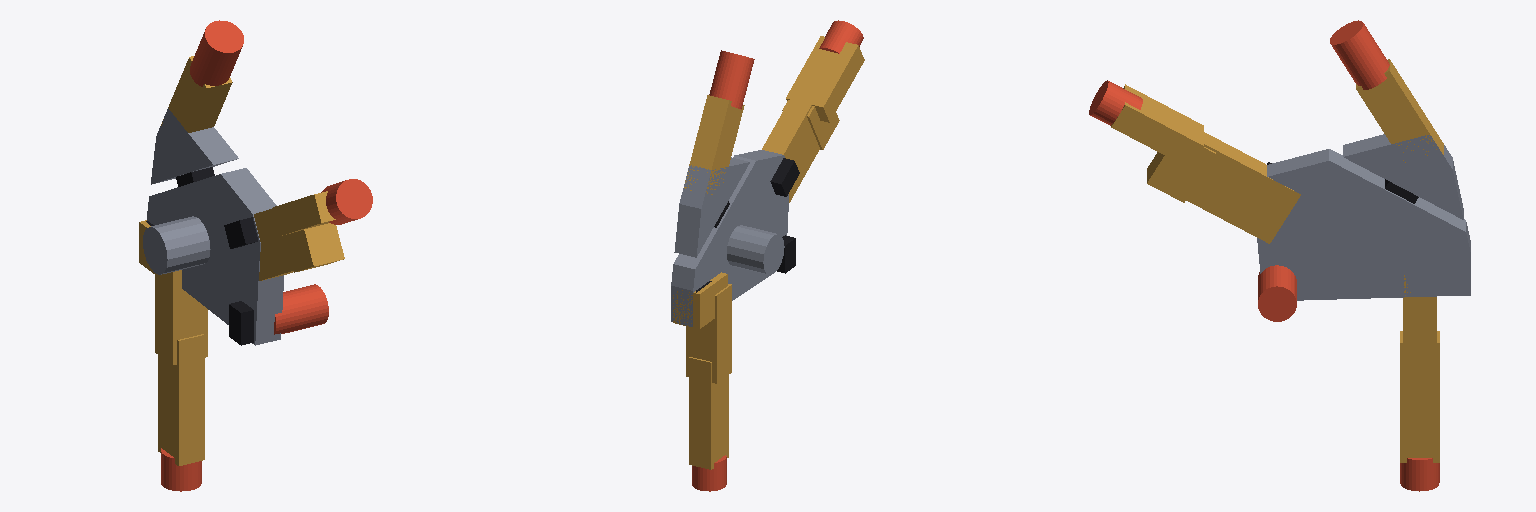
URDF robot description (g0047_c01):
<robot name="g0047_c01">
  <link name="palm">
    <visual name="palm_palm1">
      <origin xyz="0 0 0" rpy="0 0 0" />
      <geometry>
        <mesh filename="palm_palm1.obj" />
      </geometry>
      <material name="palm_palm1_mat">
        <color rgba="0.55 0.57 0.62 1" />
      </material>
    </visual>
    <collision>
      <origin xyz="0 0 0" rpy="0 0 0" />
      <geometry>
        <mesh filename="palm_palm1.obj" />
      </geometry>
    </collision>
    <visual name="palm_mount2">
      <origin xyz="0 0 0" rpy="0 0 0" />
      <geometry>
        <mesh filename="palm_mount2.obj" />
      </geometry>
      <material name="palm_mount2_mat">
        <color rgba="0.55 0.57 0.62 1" />
      </material>
    </visual>
    <collision>
      <origin xyz="0 0 0" rpy="0 0 0" />
      <geometry>
        <mesh filename="palm_mount2.obj" />
      </geometry>
    </collision>
    <visual name="palm_hinge3">
      <origin xyz="0 0.02125 0.0368060797" rpy="-1.57079633 0.523598776 1.57079633" />
      <geometry>
        <box size="0.029 0.034 0.02" />
      </geometry>
      <material name="palm_hinge3_mat">
        <color rgba="0.15 0.15 0.17 1" />
      </material>
    </visual>
    <collision>
      <origin xyz="0 0.02125 0.0368060797" rpy="-1.57079633 0.523598776 1.57079633" />
      <geometry>
        <box size="0.029 0.034 0.02" />
      </geometry>
    </collision>
    <visual name="palm_motor4">
      <origin xyz="-0.007 -0.08 -0.04" rpy="1.57079633 -1.57079633 0" />
      <geometry>
        <box size="0.029 0.034 0.02" />
      </geometry>
      <material name="palm_motor4_mat">
        <color rgba="0.15 0.15 0.17 1" />
      </material>
    </visual>
    <collision>
      <origin xyz="-0.007 -0.08 -0.04" rpy="1.57079633 -1.57079633 0" />
      <geometry>
        <box size="0.029 0.034 0.02" />
      </geometry>
    </collision>
    <visual name="palm_motor5">
      <origin xyz="-0.007 -0.08 0.04" rpy="3.14159265 -0.523598776 -1.57079633" />
      <geometry>
        <box size="0.029 0.034 0.02" />
      </geometry>
      <material name="palm_motor5_mat">
        <color rgba="0.15 0.15 0.17 1" />
      </material>
    </visual>
    <collision>
      <origin xyz="-0.007 -0.08 0.04" rpy="3.14159265 -0.523598776 -1.57079633" />
      <geometry>
        <box size="0.029 0.034 0.02" />
      </geometry>
    </collision>
    <visual name="palm_motor6">
      <origin xyz="-0.0045 0.0665 -0.0325" rpy="1.57079633 1.2246468e-16 -1.57079633" />
      <geometry>
        <box size="0.029 0.034 0.02" />
      </geometry>
      <material name="palm_motor6_mat">
        <color rgba="0.15 0.15 0.17 1" />
      </material>
    </visual>
    <collision>
      <origin xyz="-0.0045 0.0665 -0.0325" rpy="1.57079633 1.2246468e-16 -1.57079633" />
      <geometry>
        <box size="0.029 0.034 0.02" />
      </geometry>
    </collision>
    <inertial>
      <origin xyz="1.61089773e-19 -0.0166612479 -0.000978147357" rpy="1.57079633 0.259565833 1.57079633" />
      <mass value="0.766812417" />
      <inertia ixx="0.000769686596" ixy="0" ixz="0" iyy="0.00191657535" iyz="0" izz="0.00261264795" />
    </inertial>
  </link>
  <link name="palm0">
    <visual name="palm0_palm1">
      <origin xyz="0 0 0" rpy="0 0 0" />
      <geometry>
        <mesh filename="palm0_palm1.obj" />
      </geometry>
      <material name="palm0_palm1_mat">
        <color rgba="0.55 0.57 0.62 1" />
      </material>
    </visual>
    <collision>
      <origin xyz="0 0 0" rpy="0 0 0" />
      <geometry>
        <mesh filename="palm0_palm1.obj" />
      </geometry>
    </collision>
    <visual name="palm0_motor2">
      <origin xyz="0 0.01875 0.0302035393" rpy="-1.57079633 -0.523598776 1.57079633" />
      <geometry>
        <box size="0.029 0.034 0.02" />
      </geometry>
      <material name="palm0_motor2_mat">
        <color rgba="0.15 0.15 0.17 1" />
      </material>
    </visual>
    <collision>
      <origin xyz="0 0.01875 0.0302035393" rpy="-1.57079633 -0.523598776 1.57079633" />
      <geometry>
        <box size="0.029 0.034 0.02" />
      </geometry>
    </collision>
    <inertial>
      <origin xyz="8.353606e-19 0.0110686727 0.0209019454" rpy="1.57079633 0.528288471 1.57079633" />
      <mass value="0.147871037" />
      <inertia ixx="3.31420099e-05" ixy="0" ixz="0" iyy="9.63724444e-05" iyz="0" izz="0.000115318835" />
    </inertial>
  </link>
  <link name="f0_link0">
    <visual name="f0_link0_link1">
      <origin xyz="0.029 3.46944695e-18 0" rpy="-1.57079633 -0 -1.57079633" />
      <geometry>
        <cylinder radius="0.0165" length="0.049" />
      </geometry>
      <material name="f0_link0_link1_mat">
        <color rgba="0.85 0.35 0.25 1" />
      </material>
    </visual>
    <collision>
      <origin xyz="0.029 3.46944695e-18 0" rpy="-1.57079633 -0 -1.57079633" />
      <geometry>
        <cylinder radius="0.0165" length="0.049" />
      </geometry>
    </collision>
    <inertial>
      <origin xyz="0.029 0 0" rpy="0 0 0" />
      <mass value="0.106270851" />
      <inertia ixx="1.35696277e-05" ixy="0" ixz="0" iyy="5.30015704e-05" iyz="0" izz="5.30015704e-05" />
    </inertial>
  </link>
  <link name="f1_link0">
    <visual name="f1_link0_link1">
      <origin xyz="0.0415 0 -0.0145" rpy="0 7.03853194e-17 0" />
      <geometry>
        <box size="0.116 0.024 0.053" />
      </geometry>
      <material name="f1_link0_link1_mat">
        <color rgba="0.80 0.62 0.30 1" />
      </material>
    </visual>
    <collision>
      <origin xyz="0.0415 0 -0.0145" rpy="0 7.03853194e-17 0" />
      <geometry>
        <box size="0.116 0.024 0.053" />
      </geometry>
    </collision>
    <inertial>
      <origin xyz="0.0415 0 -0.0145" rpy="0 0 0" />
      <mass value="0.258216" />
      <inertia ixx="7.283843e-05" ixy="0" ixz="0" iyy="0.00034999027" iyz="0" izz="0.000301940576" />
    </inertial>
  </link>
  <link name="f1_link1">
    <visual name="f1_link1_link1">
      <origin xyz="-0.00625 0 -0.0165" rpy="0 7.03853194e-17 0" />
      <geometry>
        <box size="0.0365 0.029 0.053" />
      </geometry>
      <material name="f1_link1_link1_mat">
        <color rgba="0.80 0.62 0.30 1" />
      </material>
    </visual>
    <collision>
      <origin xyz="-0.00625 0 -0.0165" rpy="0 7.03853194e-17 0" />
      <geometry>
        <box size="0.0365 0.029 0.053" />
      </geometry>
    </collision>
    <inertial>
      <origin xyz="-0.00625 0 -0.0165" rpy="0 0 0" />
      <mass value="0.098175875" />
      <inertia ixx="2.98618286e-05" ixy="0" ixz="0" iyy="3.38809035e-05" iyz="0" izz="1.778006e-05" />
    </inertial>
  </link>
  <link name="f1_link2">
    <visual name="f1_link2_link1">
      <origin xyz="0.02625 -0.004 -1.73472348e-18" rpy="0 7.03853194e-17 0" />
      <geometry>
        <box size="0.0765 0.041 0.024" />
      </geometry>
      <material name="f1_link2_link1_mat">
        <color rgba="0.80 0.62 0.30 1" />
      </material>
    </visual>
    <collision>
      <origin xyz="0.02625 -0.004 -1.73472348e-18" rpy="0 7.03853194e-17 0" />
      <geometry>
        <box size="0.0765 0.041 0.024" />
      </geometry>
    </collision>
    <inertial>
      <origin xyz="0.02625 -0.004 0" rpy="0 0 0" />
      <mass value="0.131733" />
      <inertia ixx="2.47767818e-05" ixy="0" ixz="0" iyy="7.05677214e-05" iyz="0" izz="8.26981352e-05" />
    </inertial>
  </link>
  <link name="f1_link3">
    <visual name="f1_link3_link1">
      <origin xyz="0.01675 0 -9.54097912e-18" rpy="-1.57079633 -0 -1.57079633" />
      <geometry>
        <cylinder radius="0.0165" length="0.0335" />
      </geometry>
      <material name="f1_link3_link1_mat">
        <color rgba="0.85 0.35 0.25 1" />
      </material>
    </visual>
    <collision>
      <origin xyz="0.01675 0 -9.54097912e-18" rpy="-1.57079633 -0 -1.57079633" />
      <geometry>
        <cylinder radius="0.0165" length="0.0335" />
      </geometry>
    </collision>
    <inertial>
      <origin xyz="0.01675 0 0" rpy="0 0 0" />
      <mass value="0.0830708765" />
      <inertia ixx="1.04115311e-05" ixy="0" ixz="0" iyy="2.77522648e-05" iyz="0" izz="2.77522648e-05" />
    </inertial>
  </link>
  <link name="f2_link0">
    <visual name="f2_link0_link1">
      <origin xyz="-0.00625 0 -0.0165" rpy="0 -0 0" />
      <geometry>
        <box size="0.0365 0.029 0.053" />
      </geometry>
      <material name="f2_link0_link1_mat">
        <color rgba="0.80 0.62 0.30 1" />
      </material>
    </visual>
    <collision>
      <origin xyz="-0.00625 0 -0.0165" rpy="0 -0 0" />
      <geometry>
        <box size="0.0365 0.029 0.053" />
      </geometry>
    </collision>
    <inertial>
      <origin xyz="-0.00625 0 -0.0165" rpy="0 0 0" />
      <mass value="0.098175875" />
      <inertia ixx="2.98618286e-05" ixy="0" ixz="0" iyy="3.38809035e-05" iyz="0" izz="1.778006e-05" />
    </inertial>
  </link>
  <link name="f2_link1">
    <visual name="f2_link1_link1">
      <origin xyz="0.03375 0 -6.9388939e-18" rpy="0 -0 0" />
      <geometry>
        <box size="0.0915 0.033 0.029" />
      </geometry>
      <material name="f2_link1_link1_mat">
        <color rgba="0.80 0.62 0.30 1" />
      </material>
    </visual>
    <collision>
      <origin xyz="0.03375 0 -6.9388939e-18" rpy="0 -0 0" />
      <geometry>
        <box size="0.0915 0.033 0.029" />
      </geometry>
    </collision>
    <inertial>
      <origin xyz="0.03375 0 0" rpy="0 0 0" />
      <mass value="0.153239625" />
      <inertia ixx="2.46460397e-05" ixy="0" ixz="0" iyy="0.000117652915" iyz="0" izz="0.000120819867" />
    </inertial>
  </link>
  <link name="f2_link2">
    <visual name="f2_link2_link1">
      <origin xyz="0.04375 0 0" rpy="0 -0 0" />
      <geometry>
        <box size="0.1115 0.024 0.033" />
      </geometry>
      <material name="f2_link2_link1_mat">
        <color rgba="0.80 0.62 0.30 1" />
      </material>
    </visual>
    <collision>
      <origin xyz="0.04375 0 0" rpy="0 -0 0" />
      <geometry>
        <box size="0.1115 0.024 0.033" />
      </geometry>
    </collision>
    <inertial>
      <origin xyz="0.04375 0 0" rpy="0 0 0" />
      <mass value="0.154539" />
      <inertia ixx="2.14422863e-05" ixy="0" ixz="0" iyy="0.000174130038" iyz="0" izz="0.000167523496" />
    </inertial>
  </link>
  <link name="f2_link3">
    <visual name="f2_link3_link1">
      <origin xyz="0.019 0 -3.46944695e-18" rpy="-1.57079633 -0 -1.57079633" />
      <geometry>
        <cylinder radius="0.0165" length="0.029" />
      </geometry>
      <material name="f2_link3_link1_mat">
        <color rgba="0.85 0.35 0.25 1" />
      </material>
    </visual>
    <collision>
      <origin xyz="0.019 0 -3.46944695e-18" rpy="-1.57079633 -0 -1.57079633" />
      <geometry>
        <cylinder radius="0.0165" length="0.029" />
      </geometry>
    </collision>
    <inertial>
      <origin xyz="0.019 0 0" rpy="0 0 0" />
      <mass value="0.0763354" />
      <inertia ixx="9.49466441e-06" ixy="0" ixz="0" iyy="2.24143997e-05" iyz="0" izz="2.24143997e-05" />
    </inertial>
  </link>
  <link name="f3_link0">
    <visual name="f3_link0_link1">
      <origin xyz="0.03375 0 0" rpy="0 3.98552134e-18 0" />
      <geometry>
        <box size="0.0915 0.024 0.033" />
      </geometry>
      <material name="f3_link0_link1_mat">
        <color rgba="0.80 0.62 0.30 1" />
      </material>
    </visual>
    <collision>
      <origin xyz="0.03375 0 0" rpy="0 3.98552134e-18 0" />
      <geometry>
        <box size="0.0915 0.024 0.033" />
      </geometry>
    </collision>
    <inertial>
      <origin xyz="0.03375 0 0" rpy="0 0 0" />
      <mass value="0.126819" />
      <inertia ixx="1.75961363e-05" ixy="0" ixz="0" iyy="9.99888553e-05" iyz="0" izz="9.45673431e-05" />
    </inertial>
  </link>
  <link name="f3_link1">
    <visual name="f3_link1_link1">
      <origin xyz="0.029 0 -6.9388939e-18" rpy="-1.57079633 -0 -1.57079633" />
      <geometry>
        <cylinder radius="0.0165" length="0.049" />
      </geometry>
      <material name="f3_link1_link1_mat">
        <color rgba="0.85 0.35 0.25 1" />
      </material>
    </visual>
    <collision>
      <origin xyz="0.029 0 -6.9388939e-18" rpy="-1.57079633 -0 -1.57079633" />
      <geometry>
        <cylinder radius="0.0165" length="0.049" />
      </geometry>
    </collision>
    <inertial>
      <origin xyz="0.029 0 0" rpy="0 0 0" />
      <mass value="0.106270851" />
      <inertia ixx="1.35696277e-05" ixy="0" ixz="0" iyy="5.30015704e-05" iyz="0" izz="5.30015704e-05" />
    </inertial>
  </link>
  <joint name="palm0_joint" type="revolute">
    <parent link="palm" />
    <child link="palm0" />
    <origin xyz="0 0.025 0.0433012702" rpy="0 0 0" />
    <axis xyz="0 0.866025404 -0.5" />
    <limit effort="0.5" lower="-0.523598776" upper="0.523598776" velocity="5" />
    <dynamics damping="0.0775033" friction="0" />
  </joint>
  <joint name="f0_j0" type="revolute">
    <parent link="palm" />
    <child link="f0_link0" />
    <origin xyz="0.0005 -0.08 -0.04" rpy="1.57079633 6.123234e-17 7.49879891e-33" />
    <axis xyz="0 1 6.123234e-17" />
    <limit effort="0.5" lower="-0.523598776" upper="0.523598776" velocity="5" />
    <dynamics damping="0.0775033" friction="0" />
  </joint>
  <joint name="f1_j0" type="revolute">
    <parent link="palm" />
    <child link="f1_link0" />
    <origin xyz="0.0005 -0.08 0.04" rpy="-0 -0.523598776 -1.57079633" />
    <axis xyz="1 0 6.123234e-17" />
    <limit effort="0.5" lower="-1.57079633" upper="1.57079633" velocity="5" />
    <dynamics damping="0.0775033" friction="0" />
  </joint>
  <joint name="f1_j1" type="revolute">
    <parent link="f1_link0" />
    <child link="f1_link1" />
    <origin xyz="0.09 0 0" rpy="0 0 0" />
    <axis xyz="0 0 1" />
    <limit effort="0.5" lower="-0.523598776" upper="1.57079633" velocity="5" />
    <dynamics damping="0.0775033" friction="0" />
  </joint>
  <joint name="f1_j2" type="revolute">
    <parent link="f1_link1" />
    <child link="f1_link2" />
    <origin xyz="0 0 0" rpy="0 0 0" />
    <axis xyz="-0 -1 -6.123234e-17" />
    <limit effort="0.5" lower="-0.523598776" upper="0.523598776" velocity="5" />
    <dynamics damping="0.0775033" friction="0" />
  </joint>
  <joint name="f1_j3" type="revolute">
    <parent link="f1_link2" />
    <child link="f1_link3" />
    <origin xyz="0.05 0 0" rpy="0 0 0" />
    <axis xyz="1 0 6.123234e-17" />
    <limit effort="0.5" lower="-1.57079633" upper="1.57079633" velocity="5" />
    <dynamics damping="0.0775033" friction="0" />
  </joint>
  <joint name="f2_j0" type="revolute">
    <parent link="palm" />
    <child link="f2_link0" />
    <origin xyz="-0.0045 0.04 -0.04" rpy="1.57079633 1.57079633 0" />
    <axis xyz="0 0 1" />
    <limit effort="0.5" lower="-0.523598776" upper="1.57079633" velocity="5" />
    <dynamics damping="0.0775033" friction="0" />
  </joint>
  <joint name="f2_j1" type="revolute">
    <parent link="f2_link0" />
    <child link="f2_link1" />
    <origin xyz="0 0 0" rpy="0 0 0" />
    <axis xyz="0 1 6.123234e-17" />
    <limit effort="0.5" lower="-0.523598776" upper="0.523598776" velocity="5" />
    <dynamics damping="0.0775033" friction="0" />
  </joint>
  <joint name="f2_j2" type="revolute">
    <parent link="f2_link1" />
    <child link="f2_link2" />
    <origin xyz="0.07 0 0" rpy="0 0 0" />
    <axis xyz="0 0 1" />
    <limit effort="0.5" lower="-0.523598776" upper="1.57079633" velocity="5" />
    <dynamics damping="0.0775033" friction="0" />
  </joint>
  <joint name="f2_j3" type="revolute">
    <parent link="f2_link2" />
    <child link="f2_link3" />
    <origin xyz="0.09 0 0" rpy="0 0 0" />
    <axis xyz="0 0 1" />
    <limit effort="0.5" lower="-0.523598776" upper="1.57079633" velocity="5" />
    <dynamics damping="0.0775033" friction="0" />
  </joint>
  <joint name="f3_j0" type="revolute">
    <parent link="palm0" />
    <child link="f3_link0" />
    <origin xyz="0 0.015 0.0366987298" rpy="-0 -1.04719755 -1.57079633" />
    <axis xyz="0 0 1" />
    <limit effort="0.5" lower="-0.523598776" upper="1.57079633" velocity="5" />
    <dynamics damping="0.0775033" friction="0" />
  </joint>
  <joint name="f3_j1" type="revolute">
    <parent link="f3_link0" />
    <child link="f3_link1" />
    <origin xyz="0.07 0 0" rpy="0 0 0" />
    <axis xyz="0 0 1" />
    <limit effort="0.5" lower="-0.523598776" upper="1.57079633" velocity="5" />
    <dynamics damping="0.0775033" friction="0" />
  </joint>
</robot>

--- Render facts (derived) ---
Views: 3 orthographic renders of the robot side by side, from view 1: azimuth 30°, elevation 25°; view 2: azimuth 150°, elevation 25°; view 3: azimuth 270°, elevation 25°.
Model g0047_c01 with 13 links and 12 joints (12 revolute), rooted at palm, posed all joints at 0.
Visible links, largest first — view 1: palm, f2_link2, palm0, f2_link1, f3_link1, f3_link0, f1_link1, f0_link0, f1_link0, f1_link3, f1_link2, f2_link3; view 2: palm, f2_link2, palm0, f1_link2, f3_link0, f2_link1, f1_link0, f3_link1, f2_link0, f2_link3, f1_link3, f1_link1; view 3: palm, f1_link0, palm0, f2_link2, f1_link2, f3_link0, f3_link1, f2_link1, f1_link1, f0_link0, f1_link3, f2_link3.
Link boxes in pixels (left/top/right/bottom): palm: left=143, top=167, right=283, bottom=345; f2_link2: left=158, top=334, right=204, bottom=465; palm0: left=151, top=108, right=238, bottom=184; f2_link1: left=155, top=270, right=207, bottom=364; f3_link1: left=190, top=20, right=243, bottom=86; f3_link0: left=161, top=56, right=232, bottom=132; f1_link1: left=285, top=223, right=344, bottom=272; f0_link0: left=274, top=284, right=328, bottom=334; f1_link0: left=254, top=208, right=293, bottom=280; f1_link3: left=321, top=179, right=372, bottom=224; f1_link2: left=273, top=191, right=335, bottom=235; f2_link3: left=161, top=448, right=201, bottom=491; palm: left=671, top=150, right=799, bottom=326; f2_link2: left=689, top=357, right=728, bottom=469; palm0: left=674, top=157, right=749, bottom=257; f1_link2: left=786, top=36, right=864, bottom=122; f3_link0: left=684, top=95, right=744, bottom=194; f2_link1: left=686, top=284, right=731, bottom=383; f1_link0: left=762, top=99, right=819, bottom=202; f3_link1: left=709, top=50, right=754, bottom=109; f2_link0: left=673, top=272, right=727, bottom=329; f2_link3: left=692, top=455, right=726, bottom=491; f1_link3: left=819, top=20, right=863, bottom=53; f1_link1: left=782, top=100, right=839, bottom=149; palm: left=1257, top=149, right=1470, bottom=300; f1_link0: left=1182, top=121, right=1300, bottom=243; palm0: left=1343, top=134, right=1463, bottom=219; f2_link2: left=1400, top=331, right=1439, bottom=462; f1_link2: left=1111, top=84, right=1203, bottom=167; f3_link0: left=1356, top=59, right=1443, bottom=162; f3_link1: left=1330, top=20, right=1389, bottom=89; f2_link1: left=1403, top=275, right=1436, bottom=368; f1_link1: left=1147, top=147, right=1215, bottom=202; f0_link0: left=1258, top=265, right=1296, bottom=321; f1_link3: left=1089, top=80, right=1142, bottom=125; f2_link3: left=1400, top=458, right=1439, bottom=491.
Bounding box of the posed robot: 0.106 × 0.3215 × 0.4287 m (x, y, z).
Meshes: 3 distinct files referenced, 3 mesh visuals loaded (3 OBJ).
